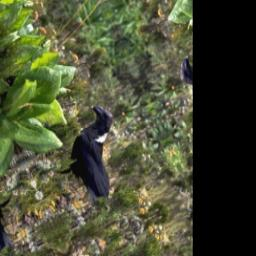Crow: (38, 97, 143, 214)
